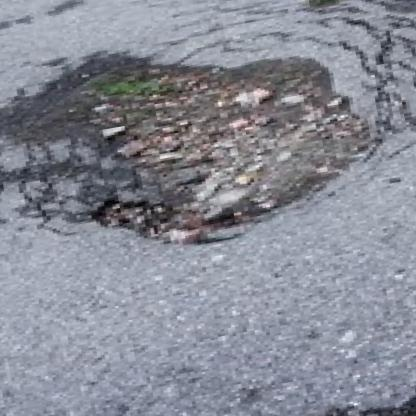pothole: (32, 16, 398, 268)
